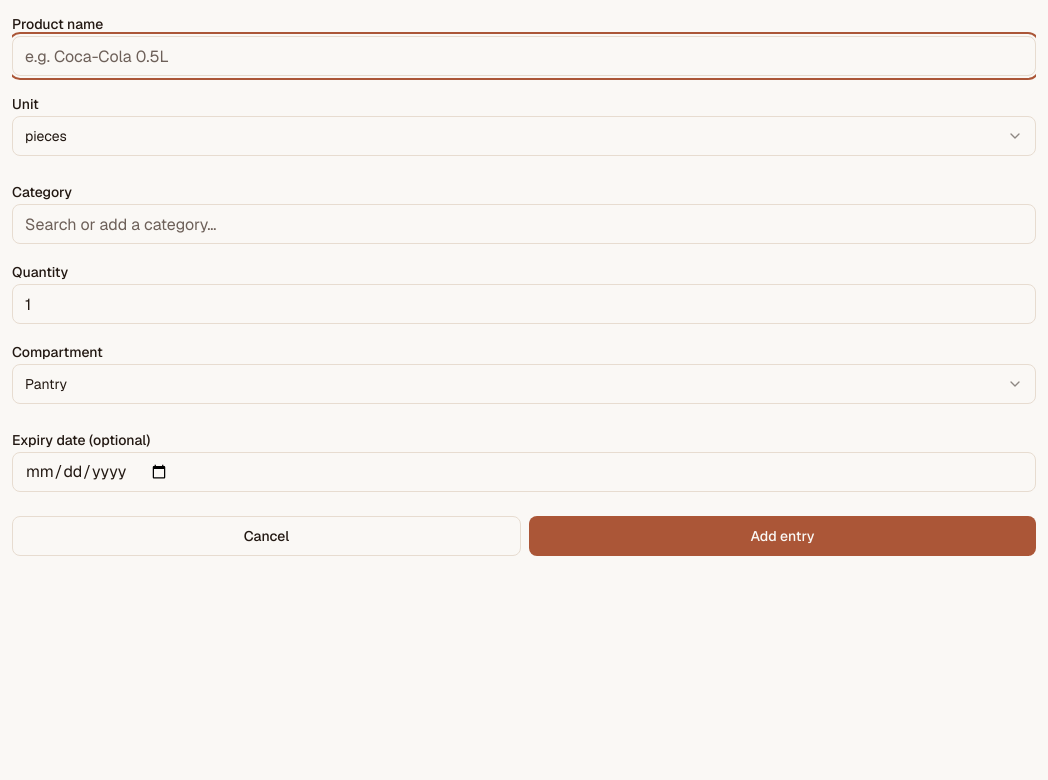
Scenario: EntryForm with a new-product choice › blocks submit and shows an error when the product name is empty
The width and height of the screenshot is (1048, 780).
Click the button "Add entry" at coordinates (782, 536), box left=529, top=516, right=1036, bottom=556
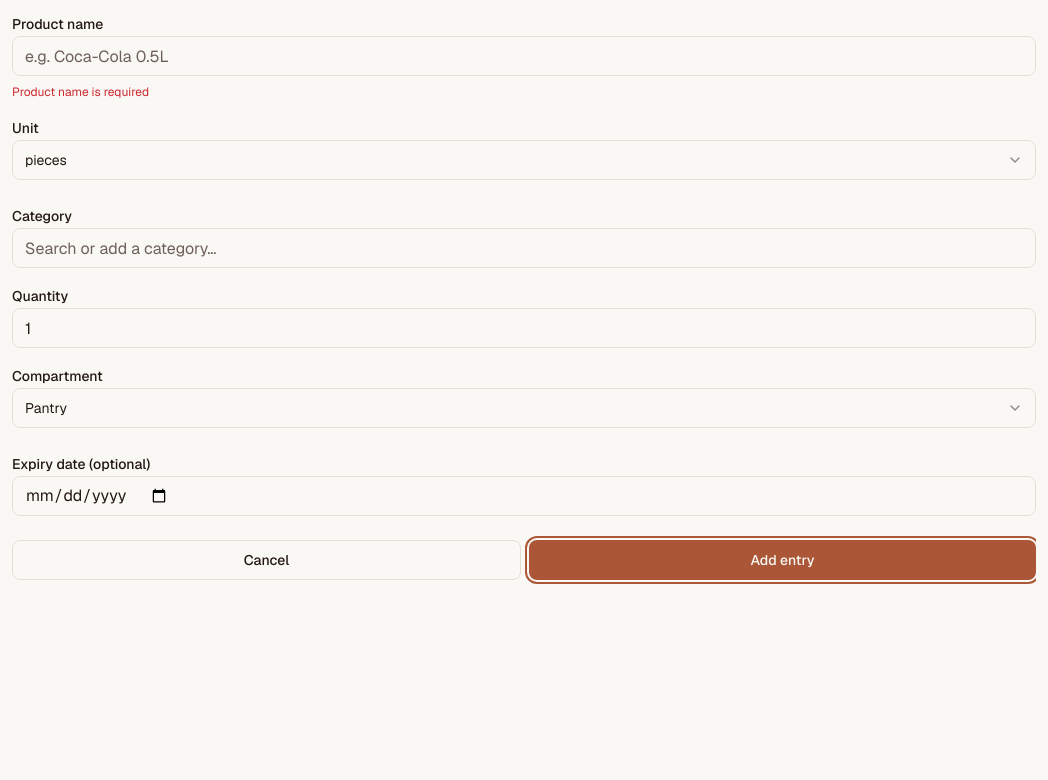
Now the text "Product name is required" is shown, box left=12, top=84, right=149, bottom=100
